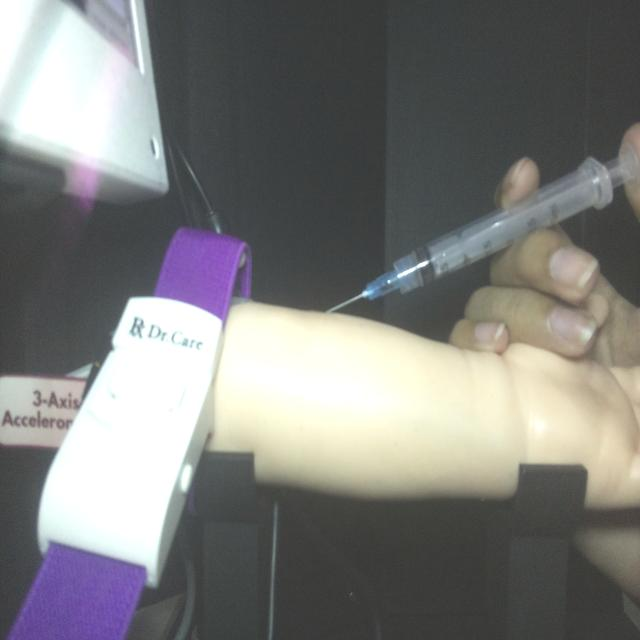19 degrees: (323, 139, 637, 316)
